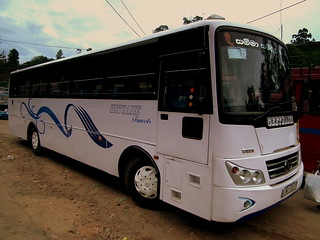bus: (8, 19, 303, 223)
